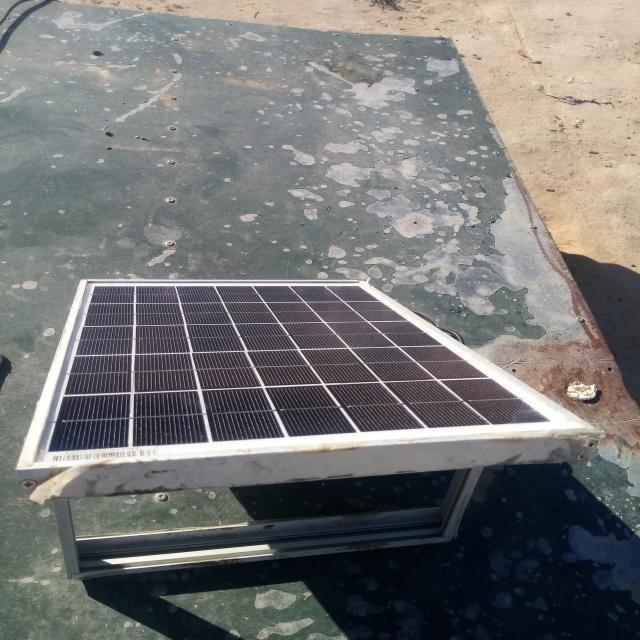Normal Solar Panel: (17, 280, 599, 472)
